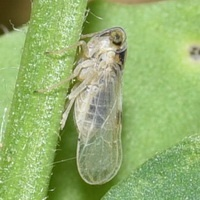insect: (60, 27, 126, 184)
